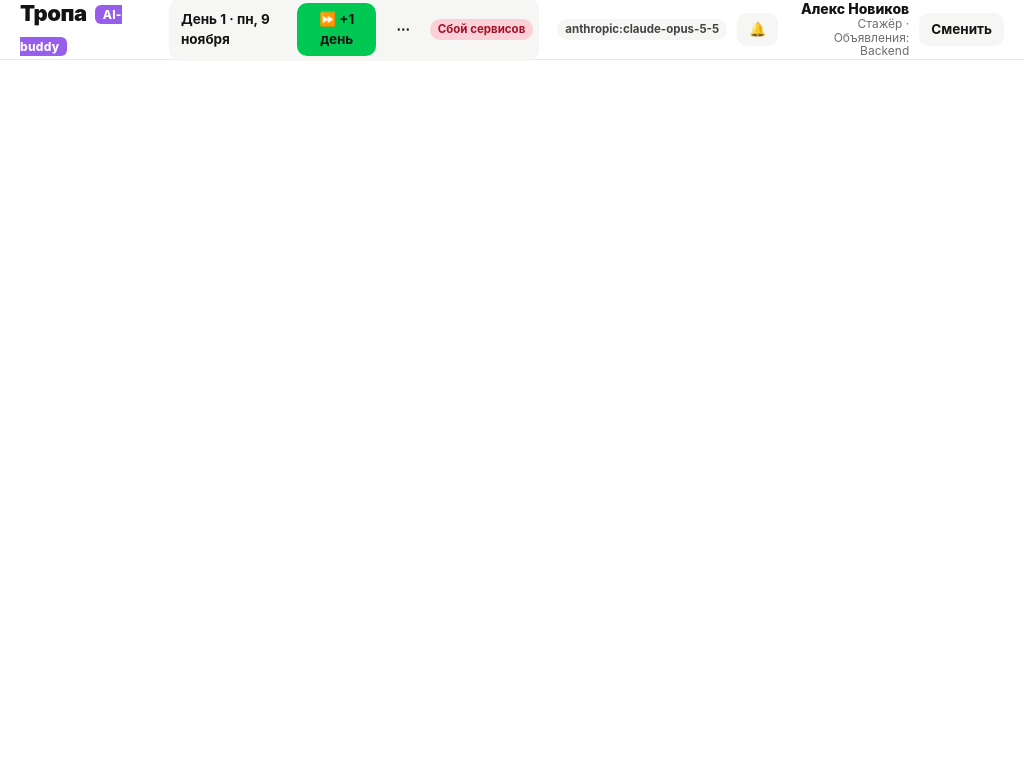
Test: TopBar › shows outage badge, LLM name and empty notifications
Expected: the text "Сбой сервисов" is shown, [430,19,533,40]
Expected: the text "anthropic:claude-opus-5-5" is shown, [557,19,727,40]
Click the button named "Демо-меню": coordinates (403, 30) [384,13,422,46]
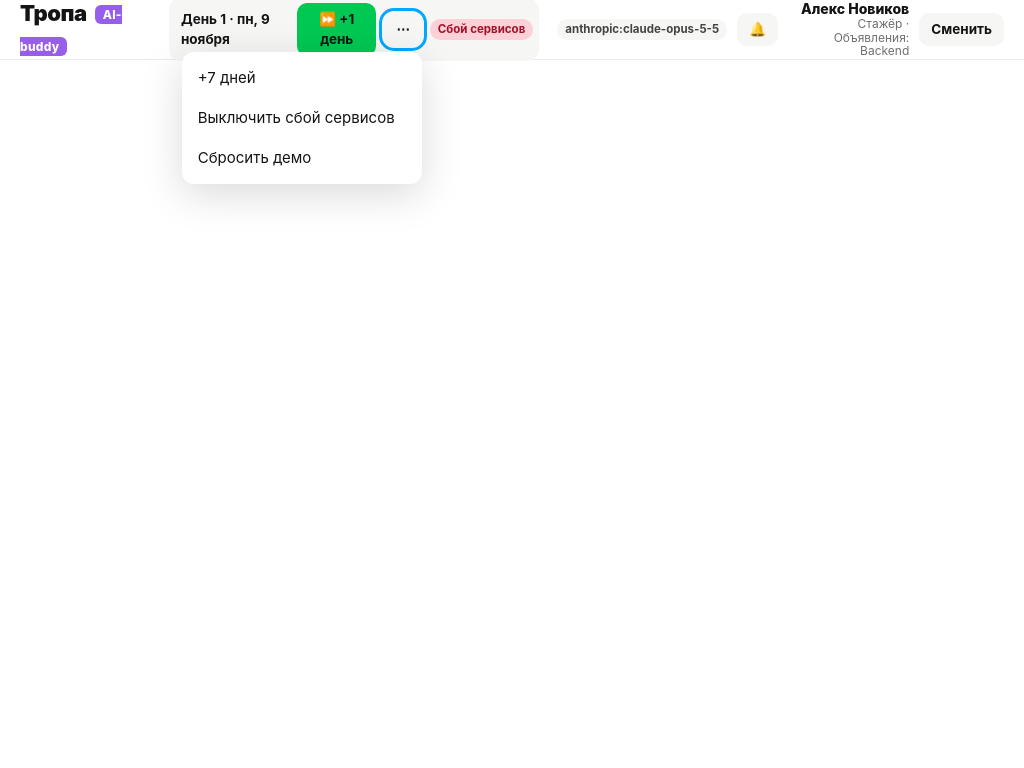
Click the menu item "Выключить сбой сервисов": coordinates (302, 118) [188,98,416,138]
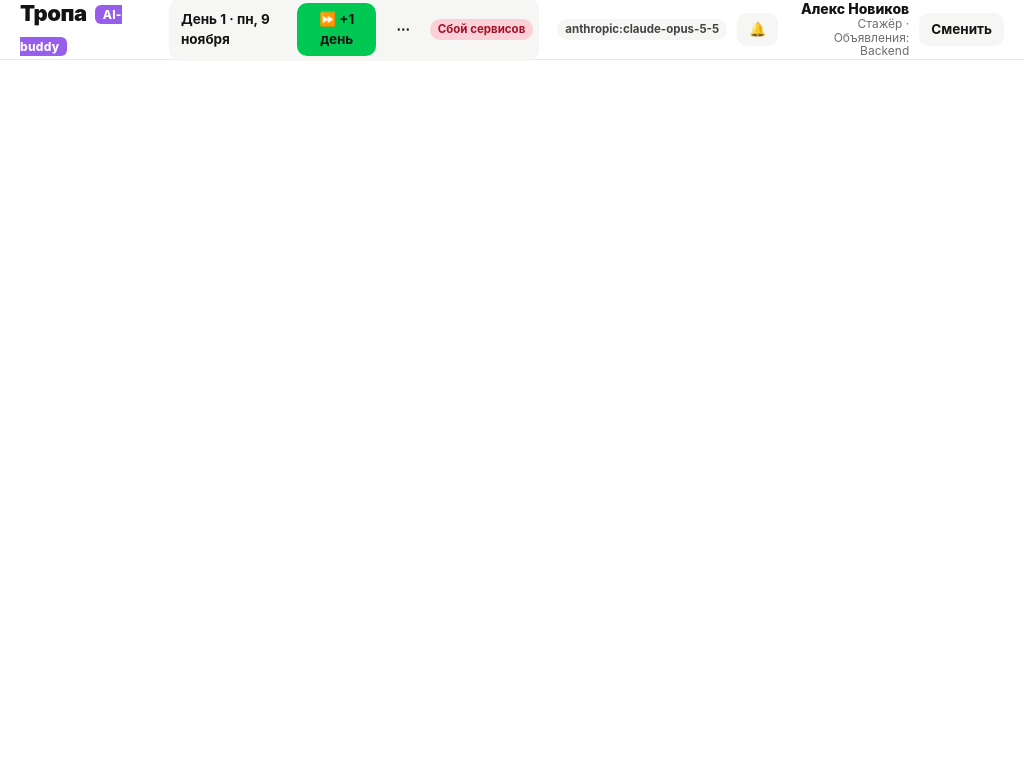
Click the button named "Уведомления: 0": coordinates (758, 30) [737,13,778,46]
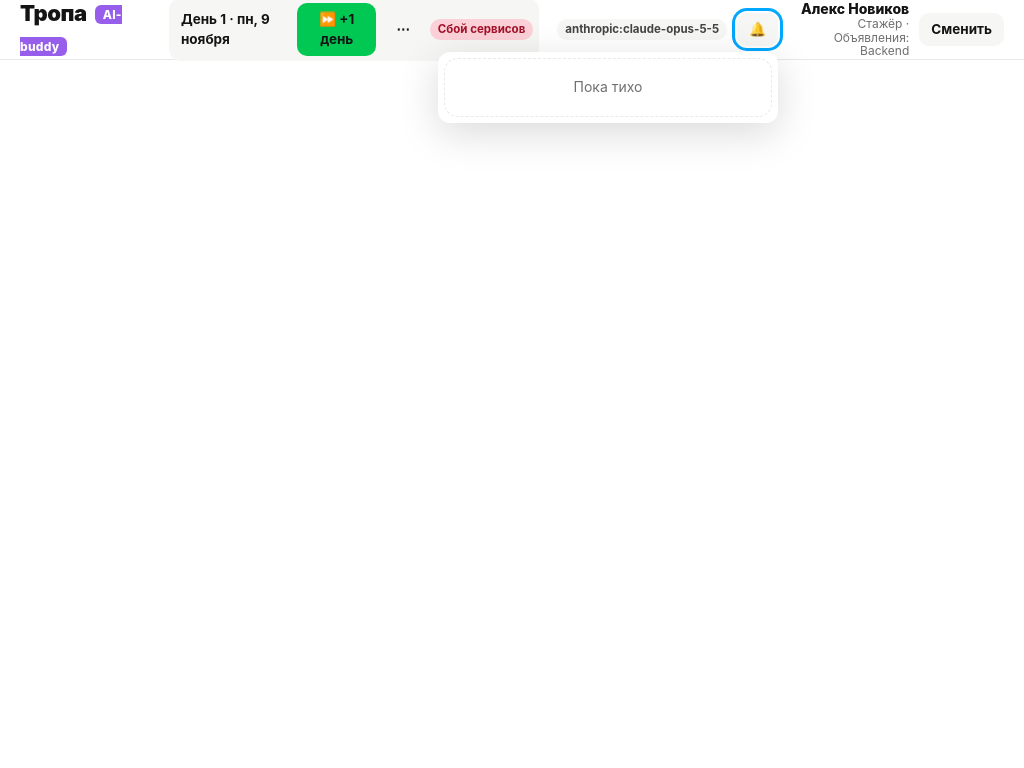
Result: the text "Пока тихо" is shown at [444,58,772,117]
